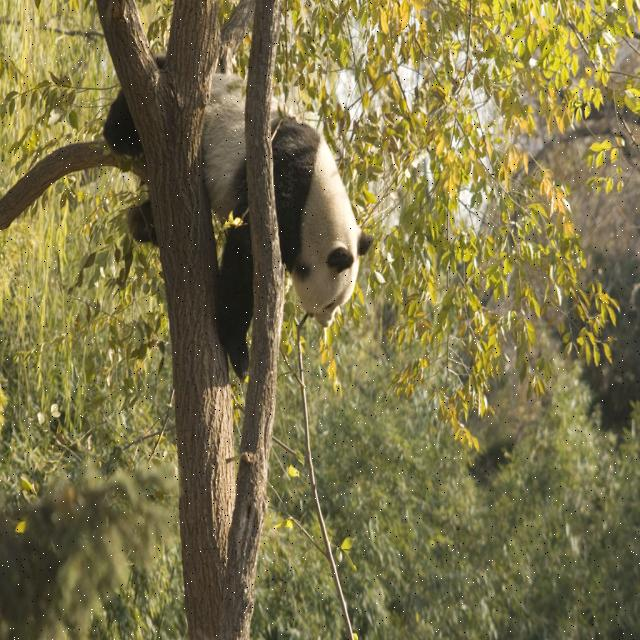panda: (102, 56, 374, 380)
